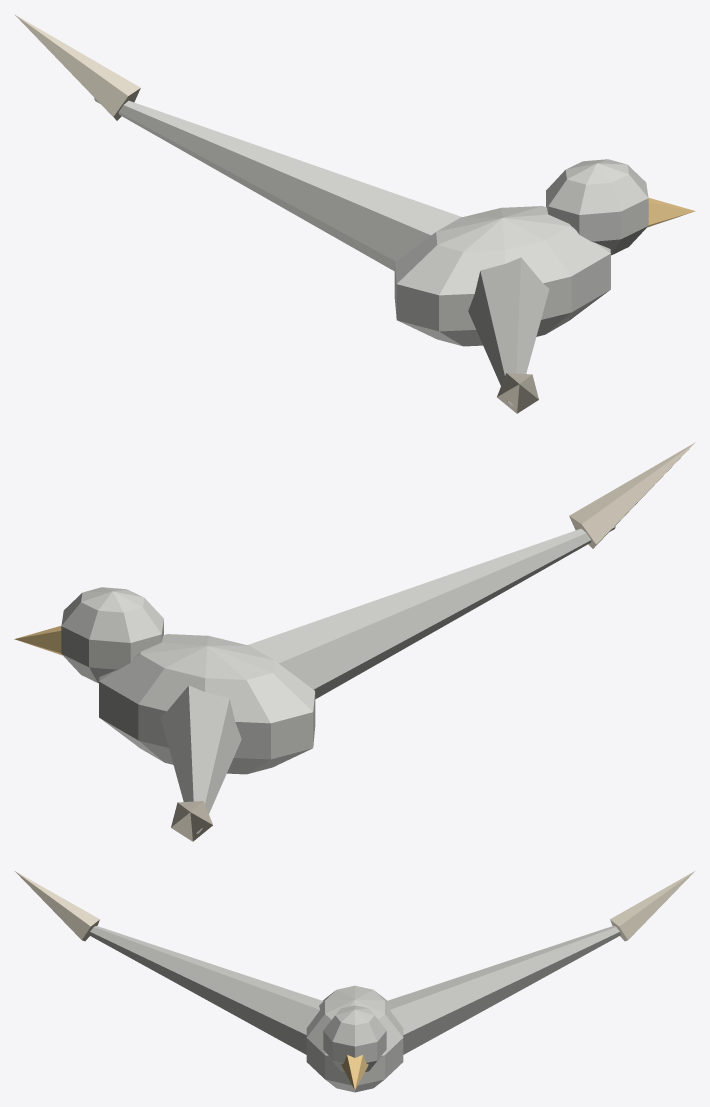
The model's file is gaviota.glb.
3 renders of one model, top to bottom at view 1: azimuth 30°, elevation 25°; view 2: azimuth 150°, elevation 25°; view 3: azimuth 270°, elevation 25°, orthographic. The views are drawn at different scales.
Visible parts, largest first — view 1: gaviota; view 2: gaviota; view 3: gaviota.
Part boxes in pixels (x1,y1,x2,y2): gaviota: (14,14,695,413); gaviota: (14,442,695,841); gaviota: (15,871,694,1092).
Size of the model in its own units: 1 by 0.43 by 2.04.
